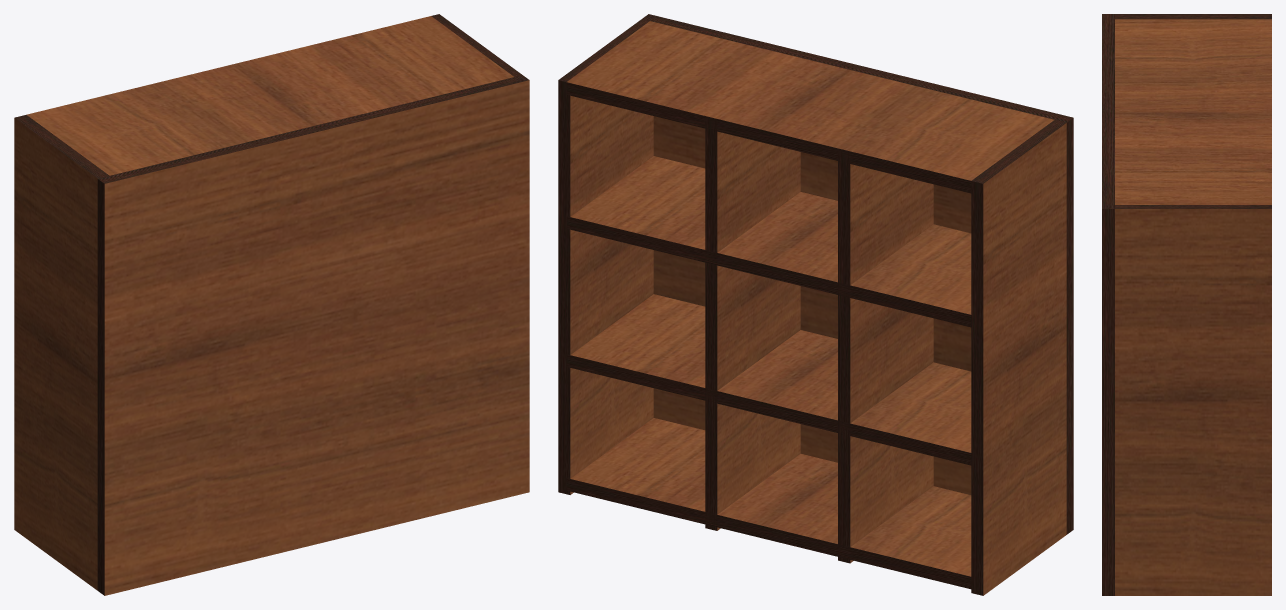
Rendered from self4.FBX.
3 views of the same model, side by side, from view 1: azimuth 30°, elevation 25°; view 2: azimuth 150°, elevation 25°; view 3: azimuth 270°, elevation 25° (orthographic). The views are drawn at different scales.
Parts seen in each view (by area): view 1: self4; view 2: self4; view 3: self4.
Part boxes in pixels (x1,y1,x2,y2): self4: (14,14,529,595); self4: (558,14,1073,595); self4: (1102,14,1271,595).
Size of the model in its own units: 8.82 by 8.17 by 3.25.
